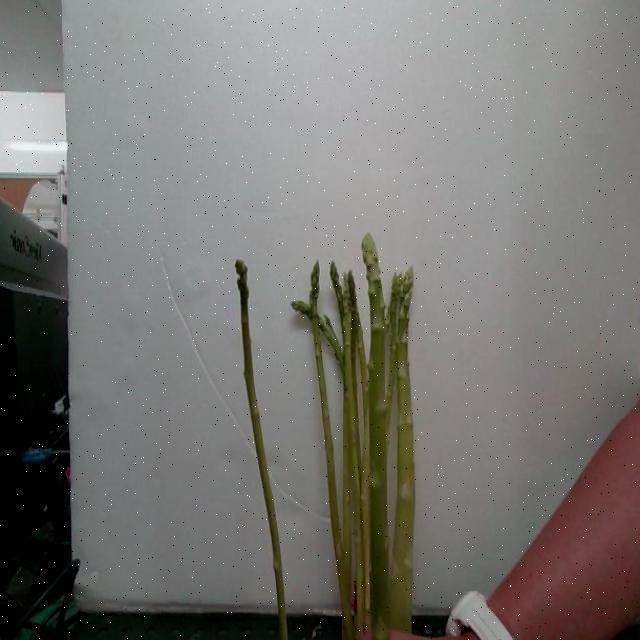aspargus: (233, 262, 289, 640), (362, 234, 391, 640), (393, 265, 416, 634)
